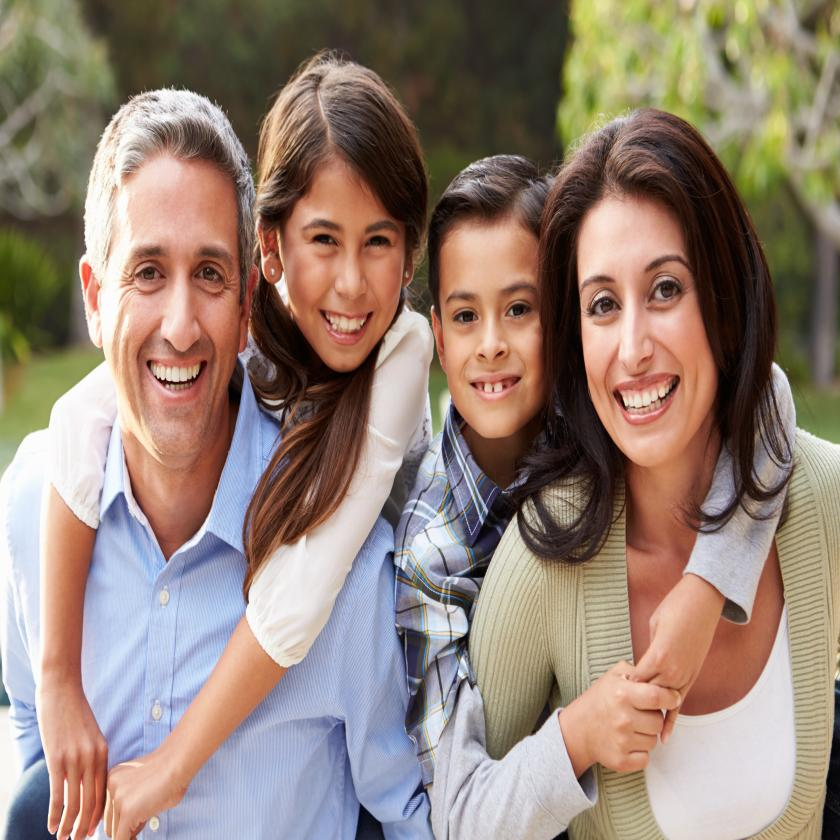Sin_casco: (80, 78, 260, 464), (571, 112, 744, 496), (265, 48, 430, 370), (434, 148, 556, 454)
